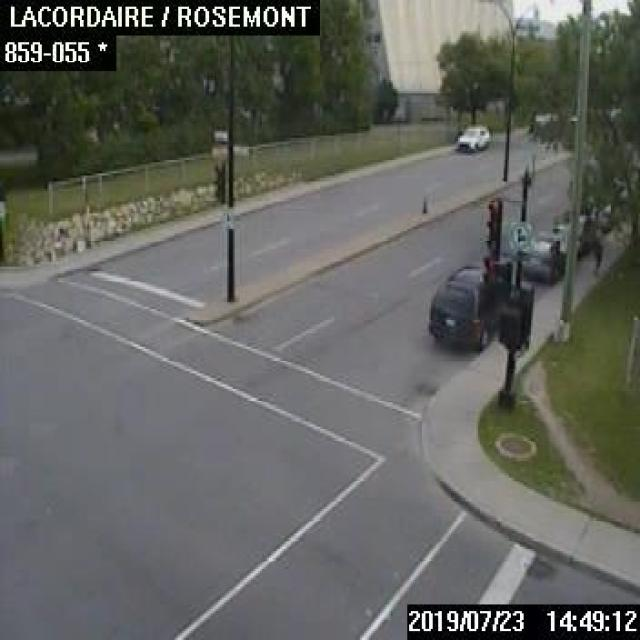vehicle: (427, 263, 504, 348), (520, 236, 565, 282), (552, 213, 593, 253), (456, 123, 488, 150)
